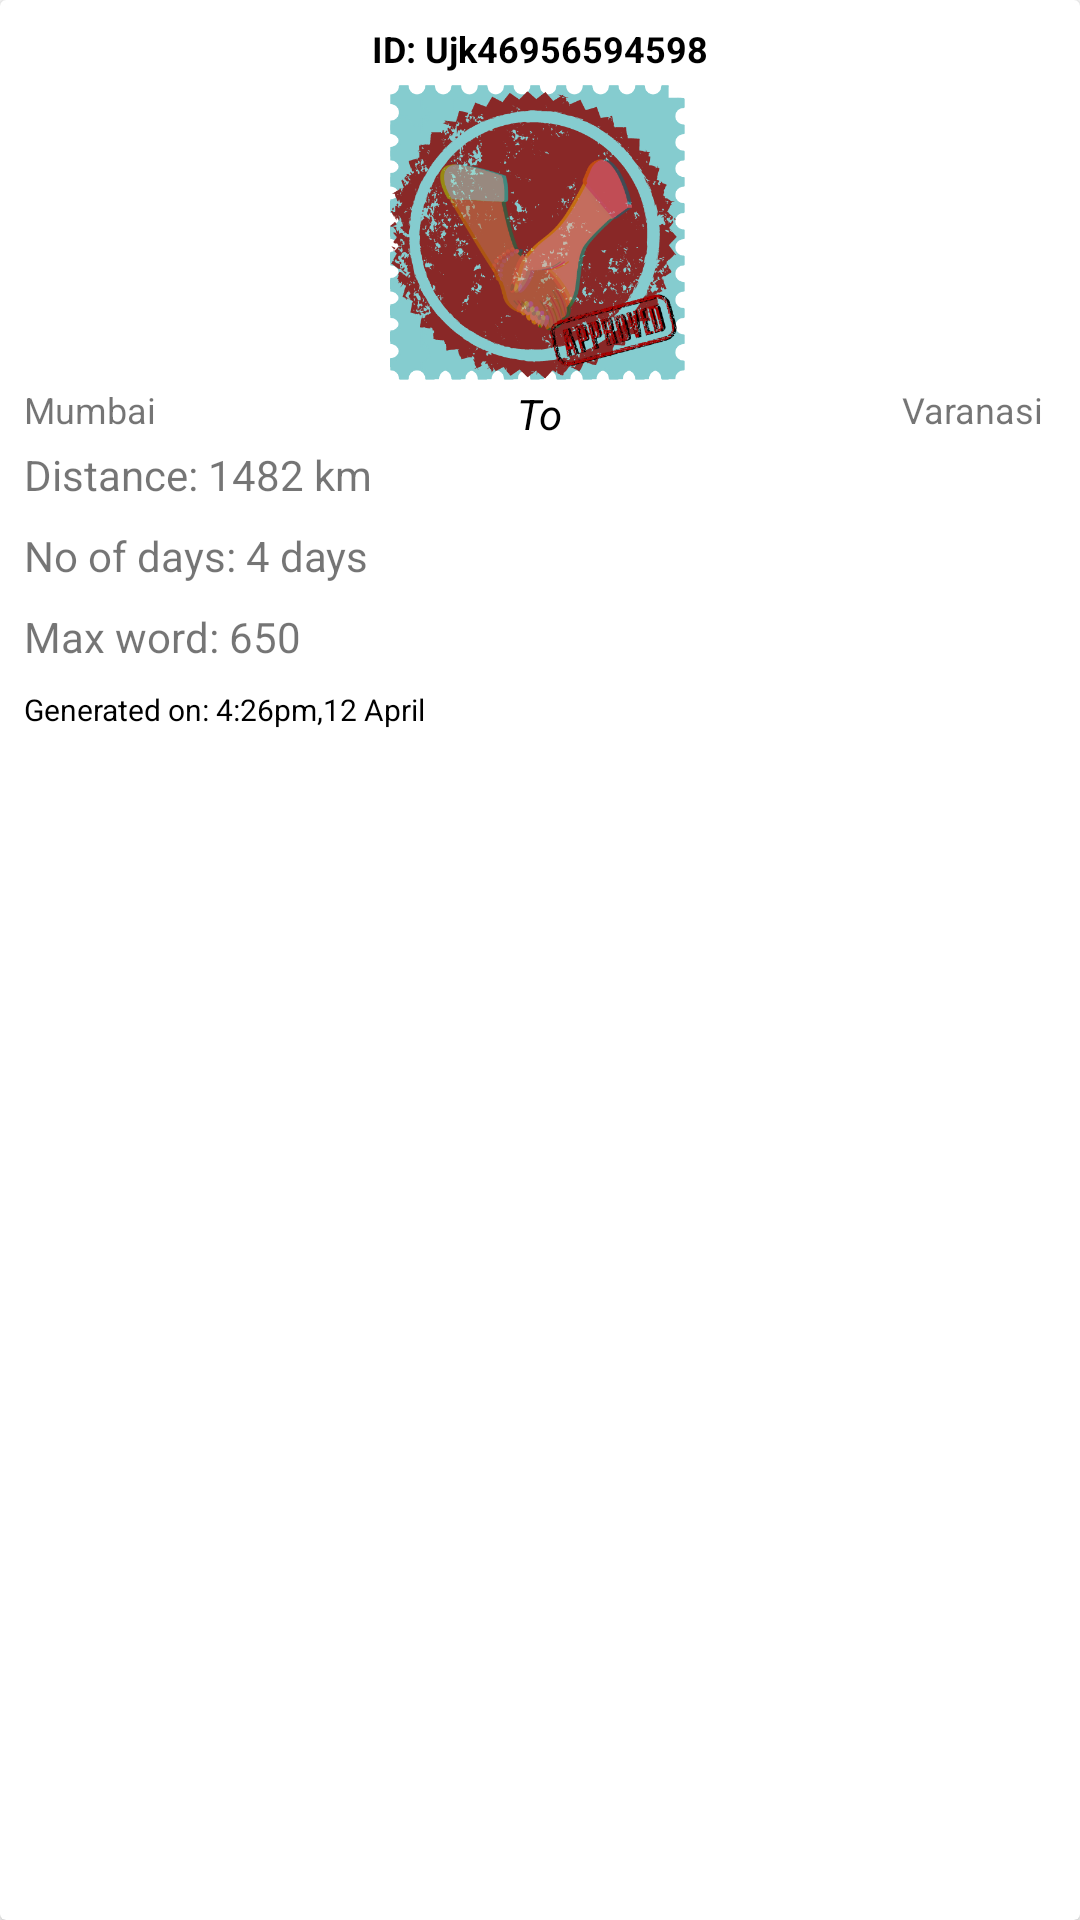

Icon click points for this 1080px×1920px phone screenshot, format (x,y):
basic stamp: (537,232)
